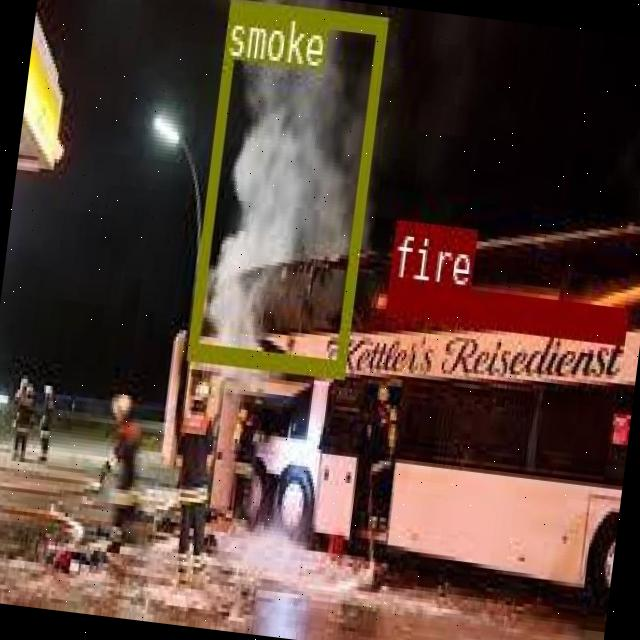fire: (383, 277, 624, 341)
smoke: (186, 0, 384, 375)
